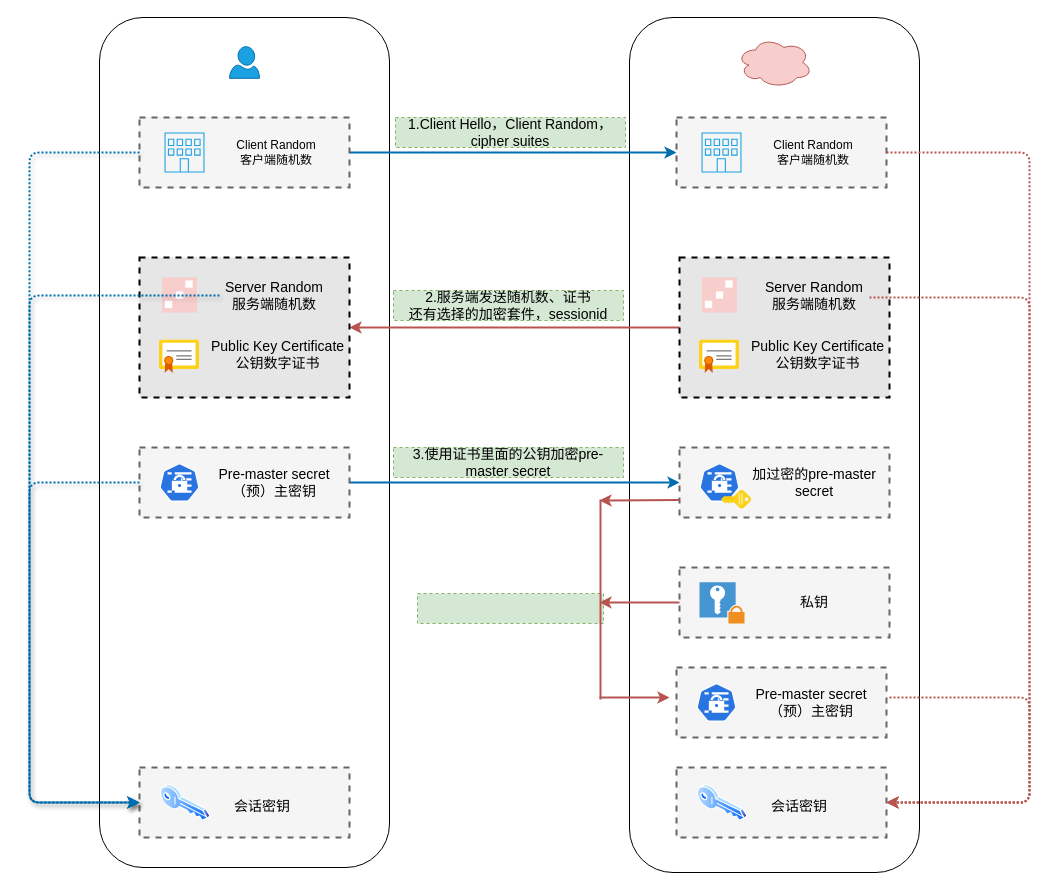
Some shapes in this 1055 by 890 pixel diagram are drawn without their labels. Each missing label, with the centre of its shape:
"4.使用私钥解密出pre-master secret" goes at (x=510, y=608).
"Cloud" goes at (x=774, y=62).
